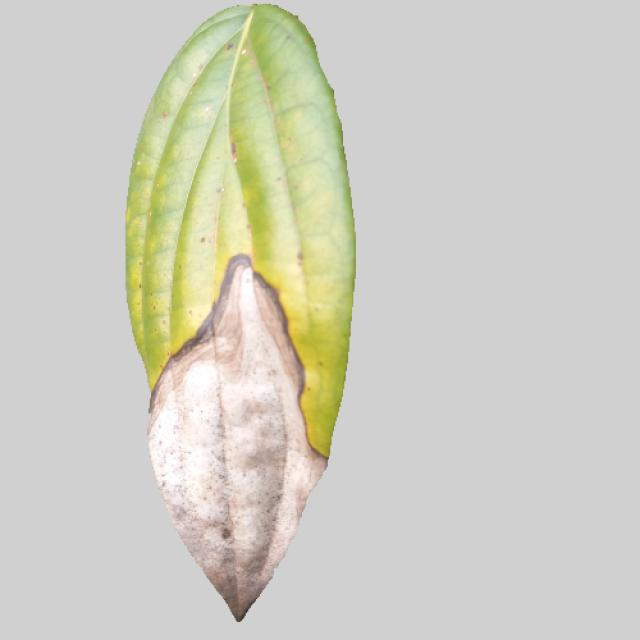leaf-blight: (118, 2, 372, 640)
